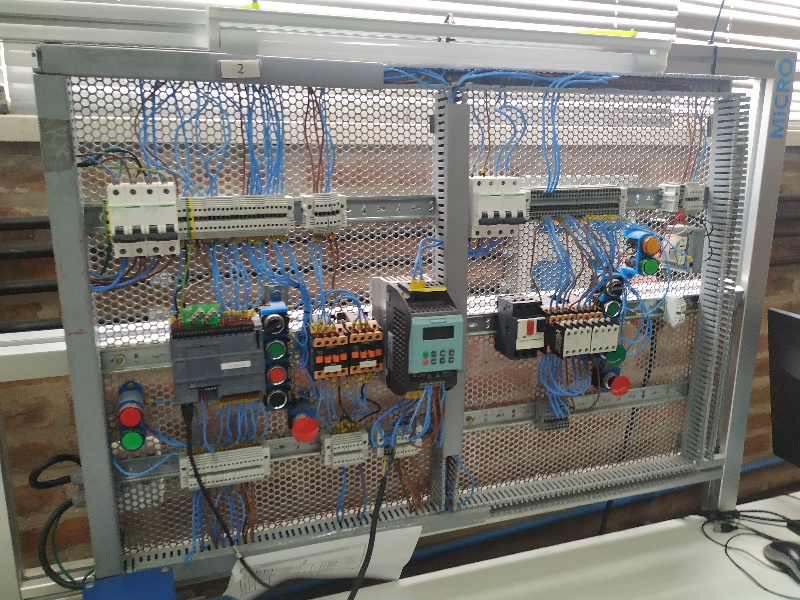Tablero 2: (54, 55, 723, 535)
